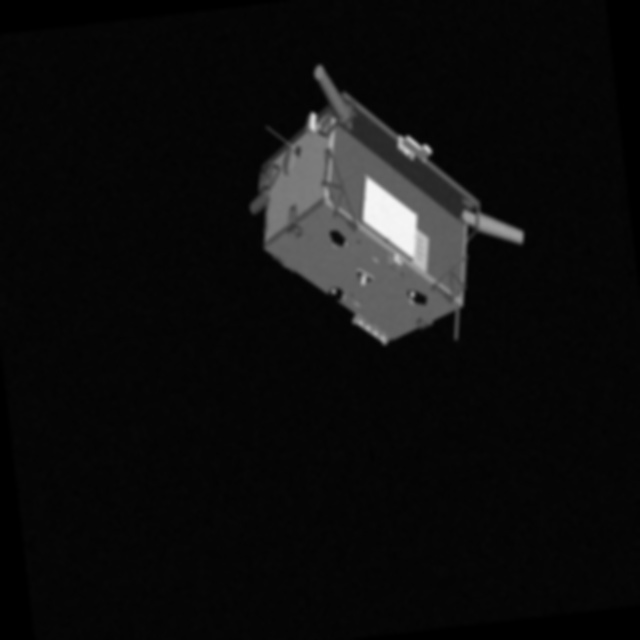satellite: (203, 32, 565, 374)
